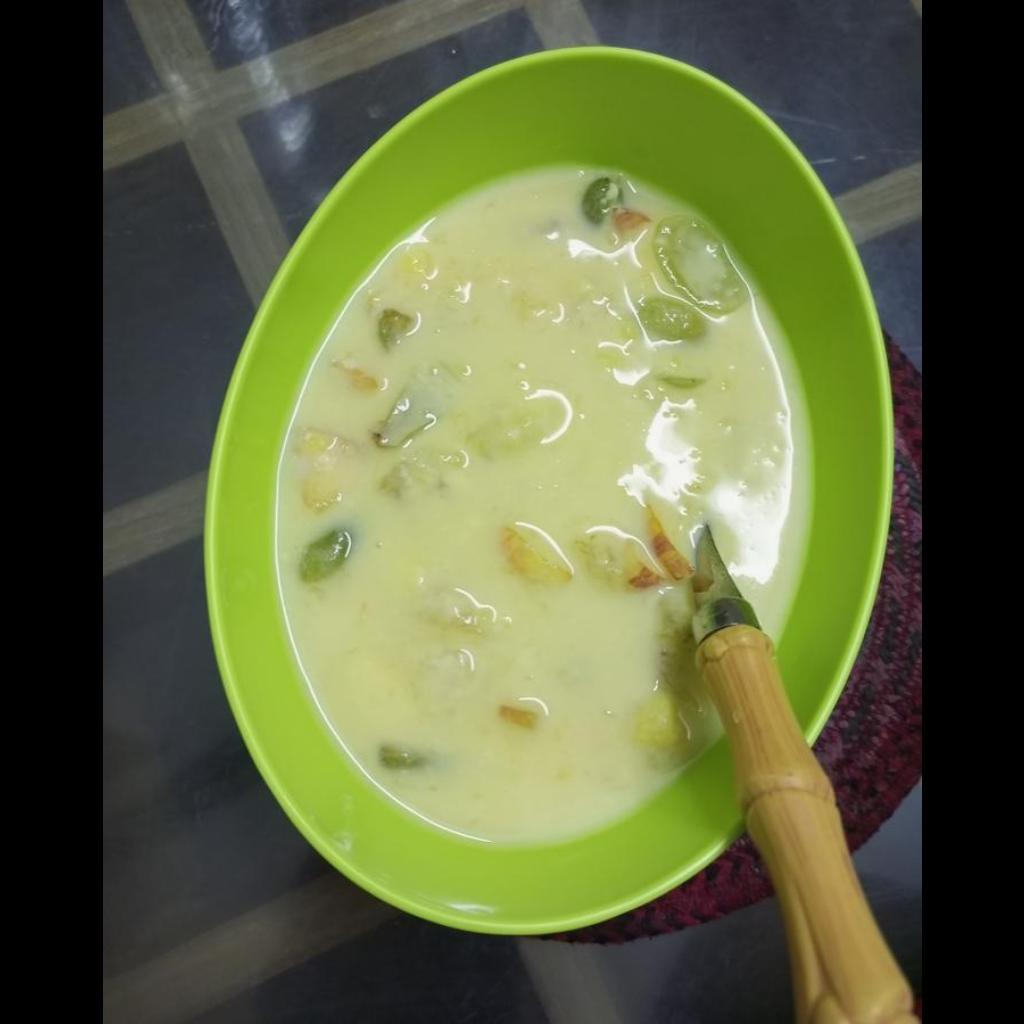payesh: (273, 174, 820, 848)
